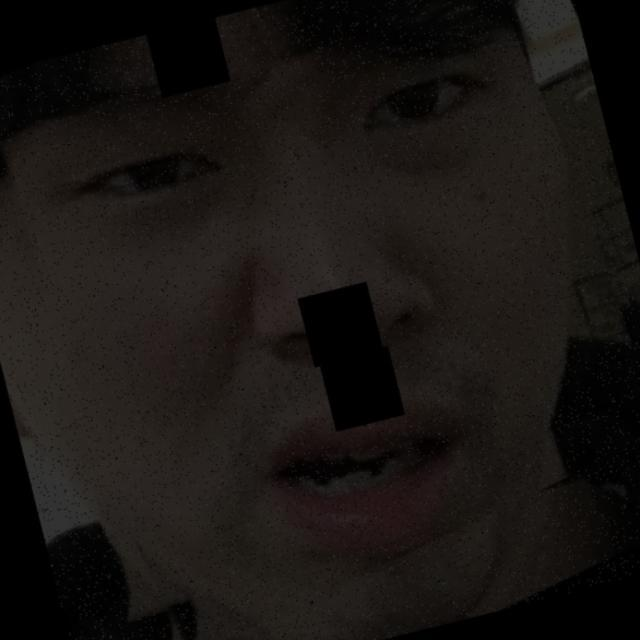Angry: (39, 39, 593, 587)
